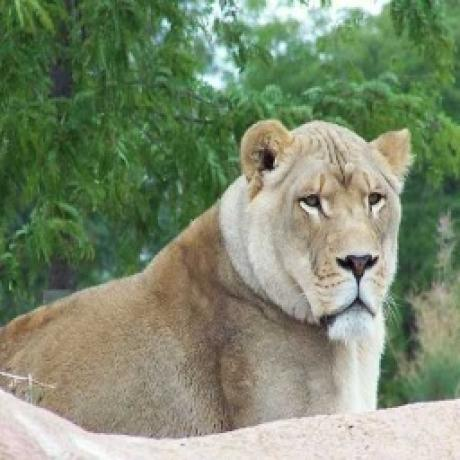Lion: (0, 115, 413, 421)
